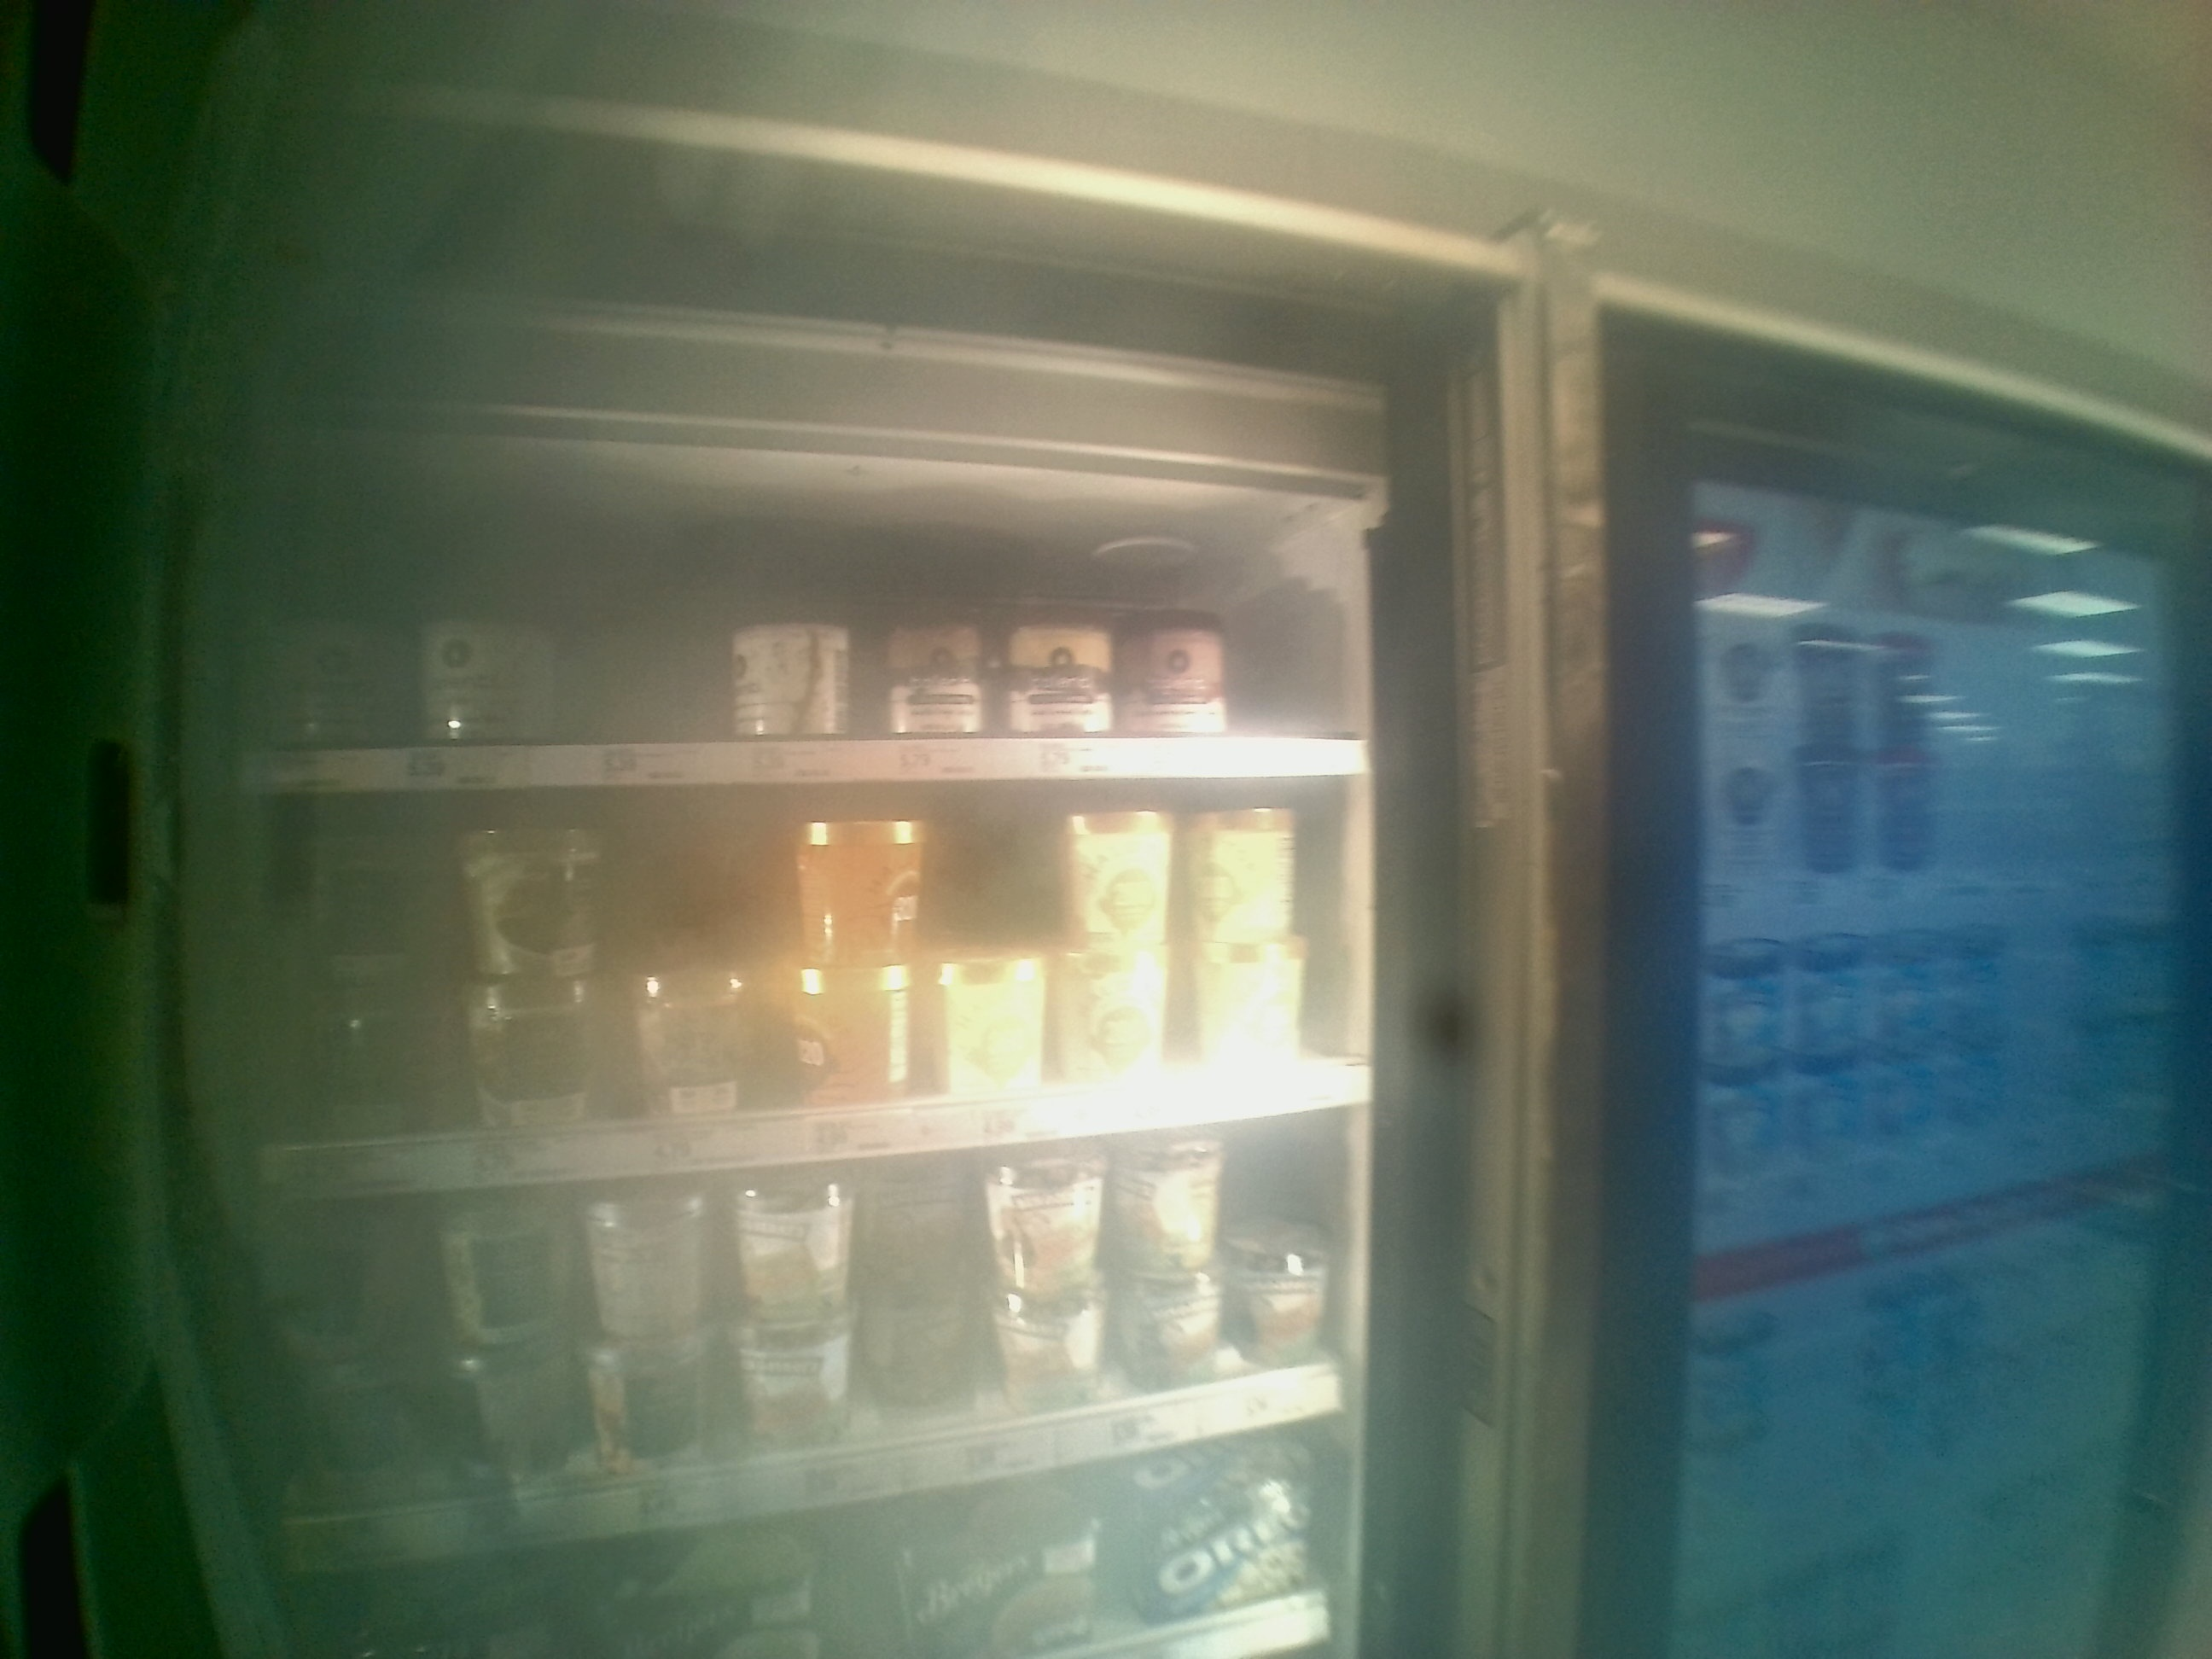shelf: (240, 788, 1393, 1194), (244, 437, 1374, 788)
